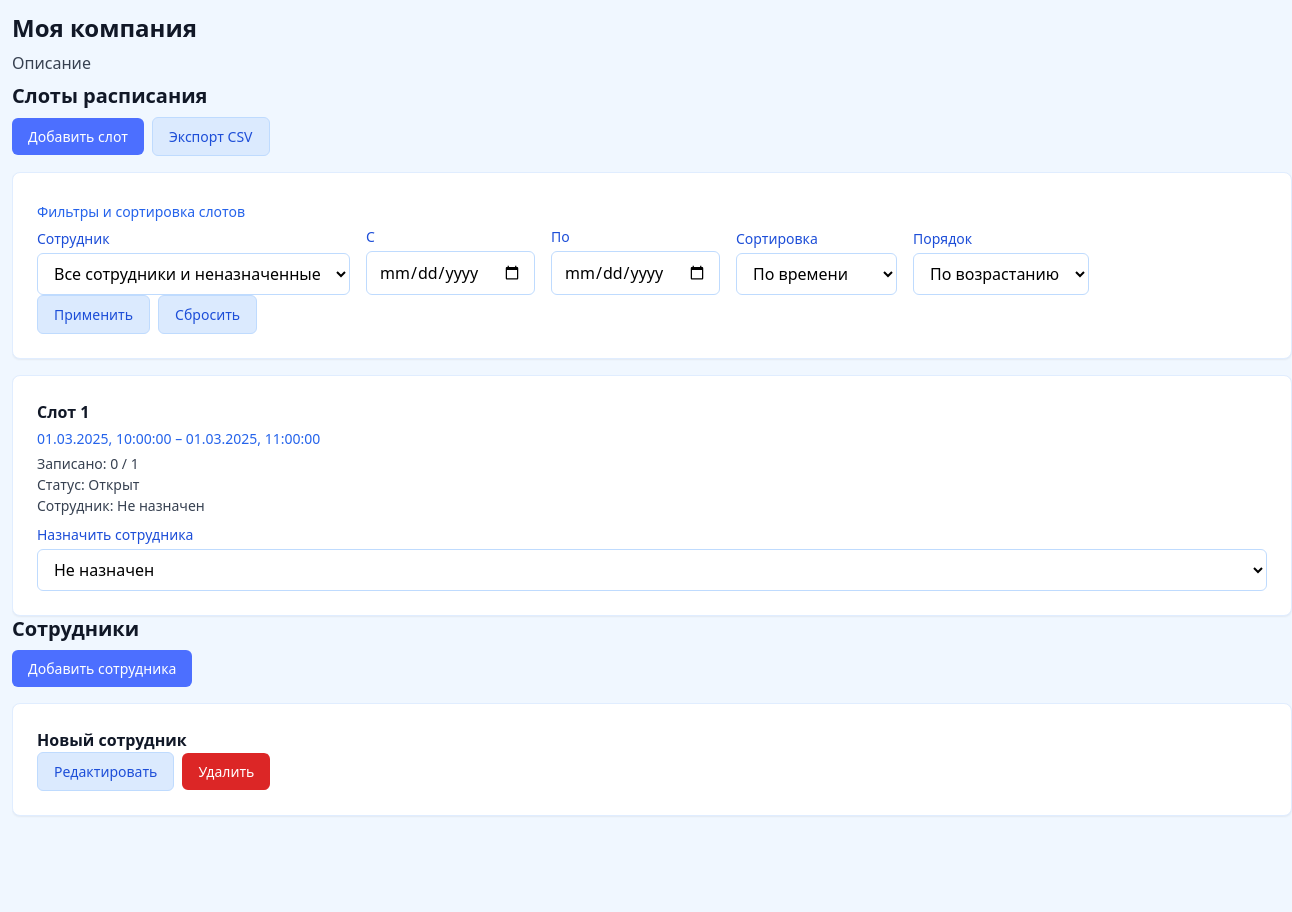
it: CompanyPage › назначает сотрудника слоту
This screenshot has width=1292, height=912.
Select "Новый сотрудник" in the dropdown labelled "Назначить сотрудника": x=652, y=570 [37, 549, 1267, 591]
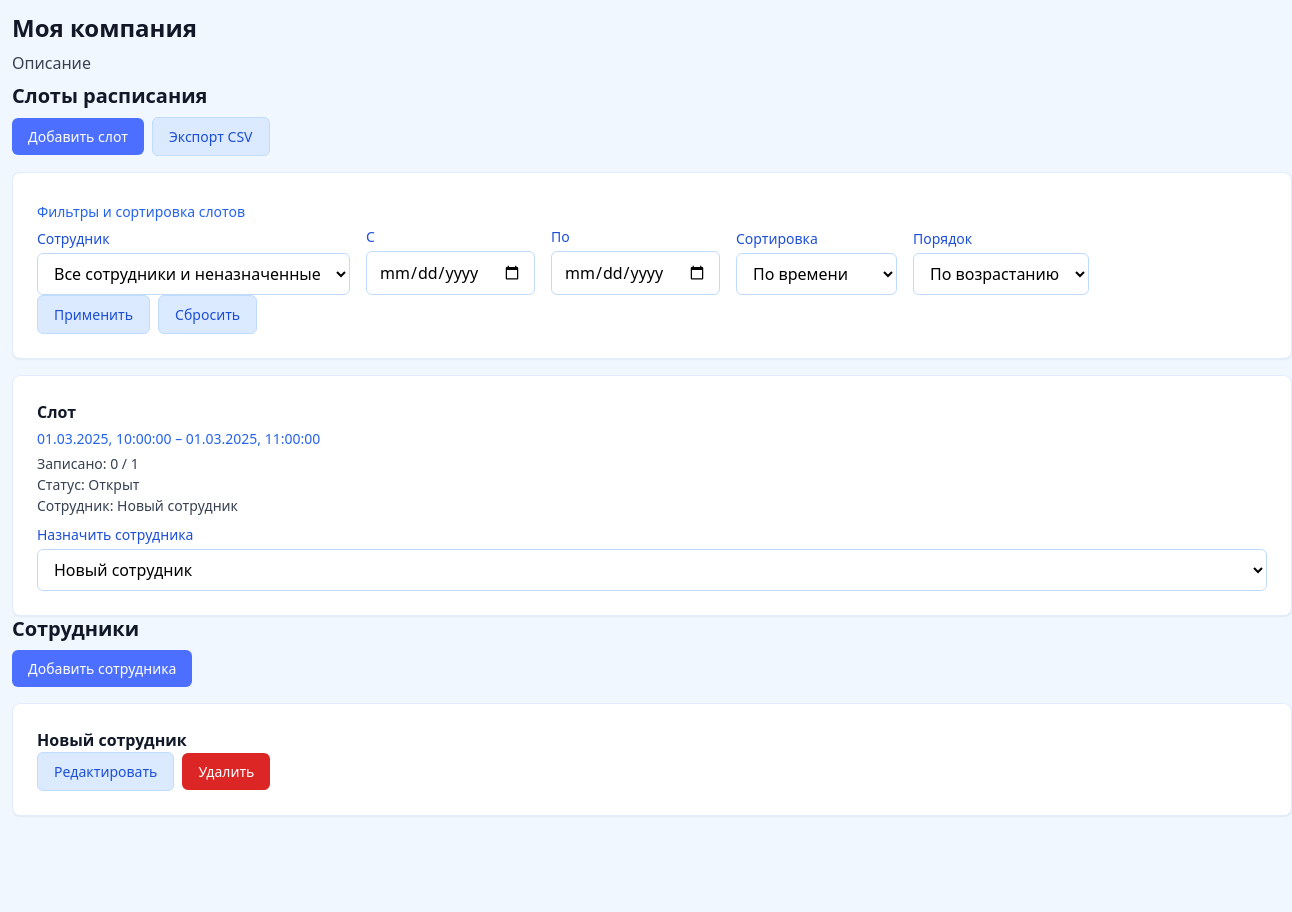
Result: the text "Сотрудник: Новый сотрудник" is shown at [37, 496, 238, 515]
